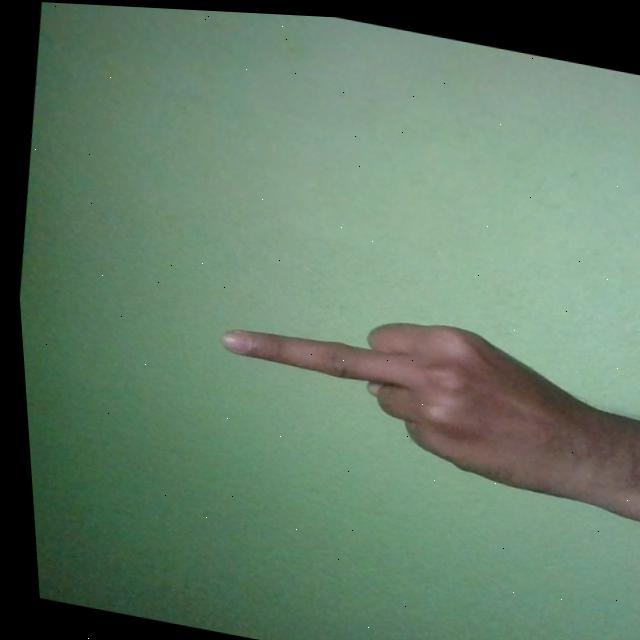Middle Finger: (203, 279, 640, 507)
